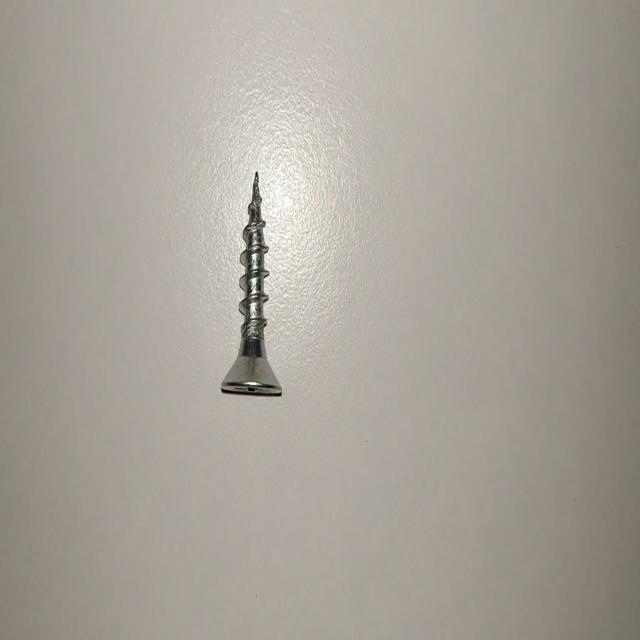Screw: (221, 171, 282, 395)
